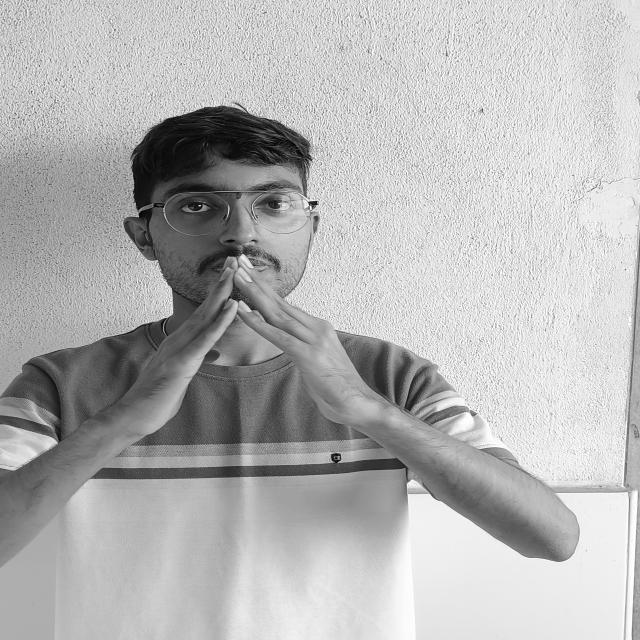Home: (75, 253, 437, 498)
